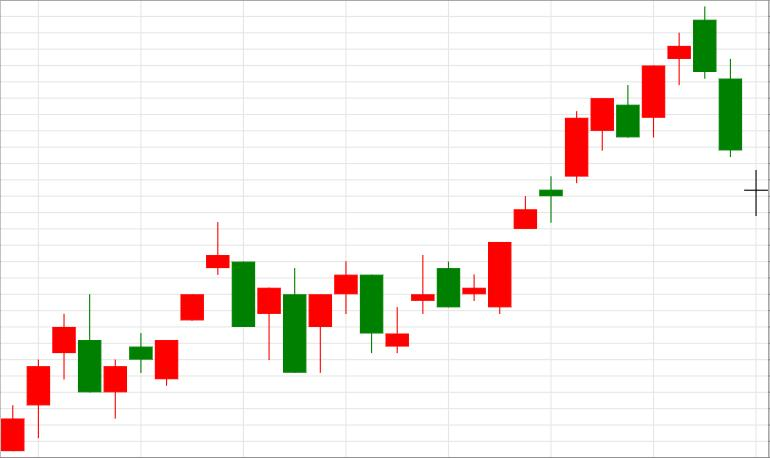evening_star_fall: (103, 223, 255, 419)
